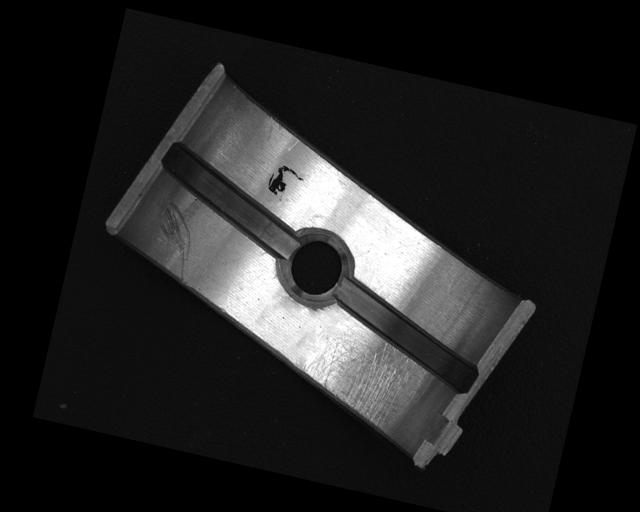blot: (265, 160, 307, 201)
gap: (319, 277, 496, 398), (144, 138, 316, 262)
hole: (275, 224, 357, 308)
nick: (143, 194, 201, 282)
scratch: (291, 325, 415, 434)
